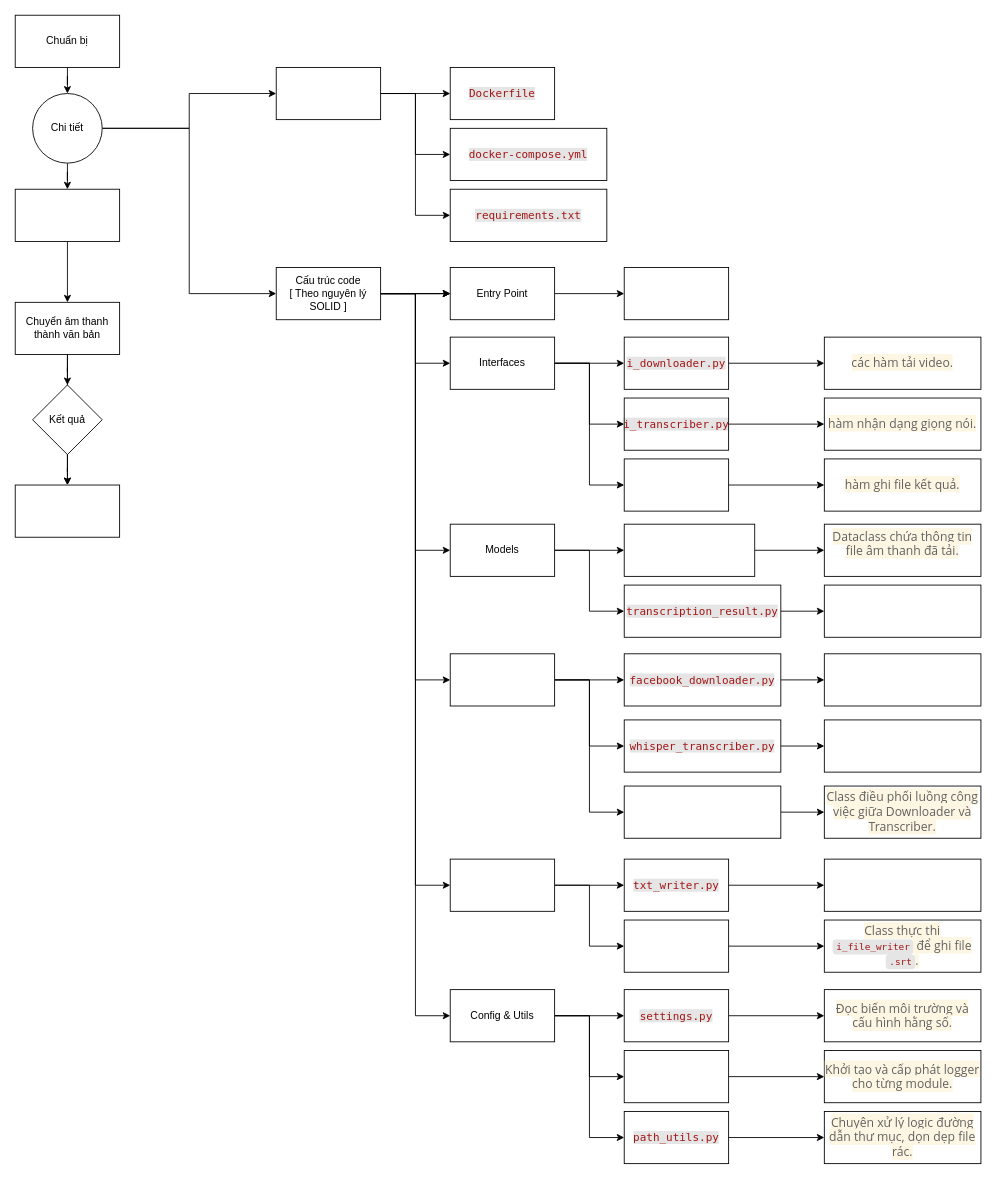
The diagram is 996 pixels wide and 1179 high, and some of its shapes have lost their labels. Each missing label, with the centre of its shape:
1 fiile .txt: point 67,510
Class thực thi i_downloader sử dụng thư viện yt-dlp .: point 902,679
Class thực thi i_file_writer để ghi file .txt .: point 902,884
Class thực thi i_transcriber sử dụng openai-whisper .: point 902,745
Dataclass chứa kết quả văn bản thô và thời gian: point 902,610
download_result.py: point 689,549
i_file_writer.py: point 676,484
logger_factory.py: point 676,1076
main.py: point 676,293
Môi trường docker: point 328,93
Services: point 502,679
srt_writer.py: point 676,945
subtitle_orchestrator.py: point 702,811
Tải âm thanh từ video trên facebook: point 67,214
Writers: point 502,884
